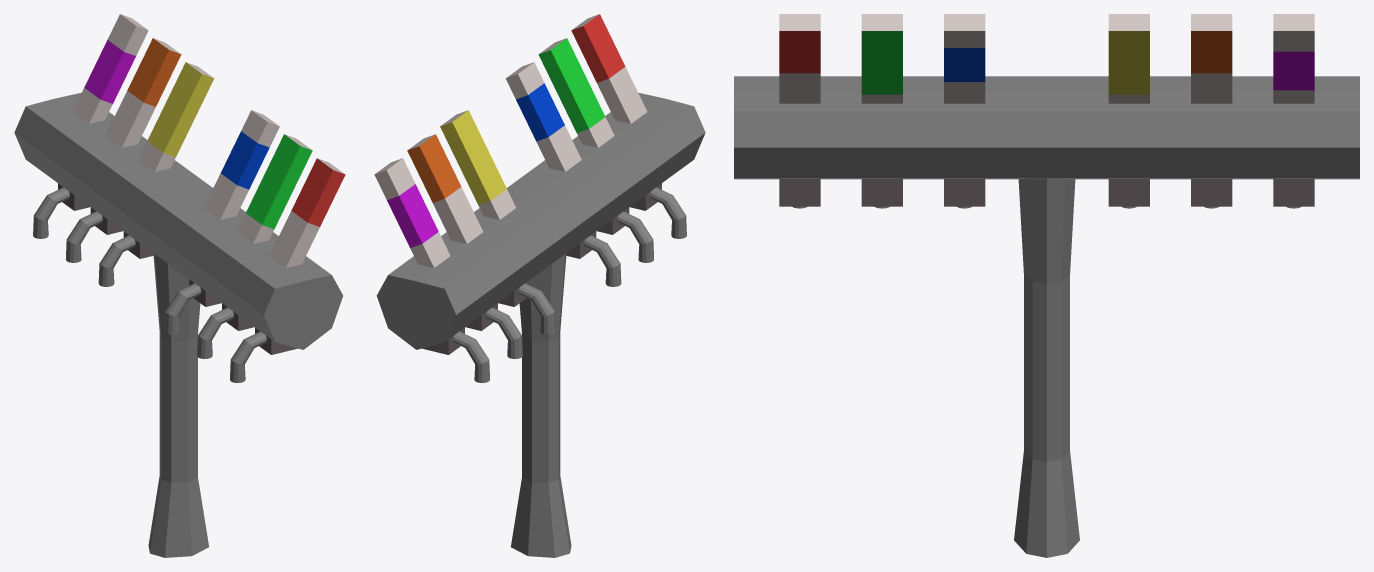
File: Bar Taps.fbx
The picture shows the model from 3 angles, left to right: view 1: azimuth 30°, elevation 25°; view 2: azimuth 150°, elevation 25°; view 3: azimuth 270°, elevation 25°; orthographic projection. The views are drawn at different scales.
Parts seen in each view (by area): view 1: Bar Tap; view 2: Bar Tap; view 3: Bar Tap.
Part boxes in pixels (left/top/right/bottom): Bar Tap: left=14, top=14, right=345, bottom=557; Bar Tap: left=374, top=14, right=705, bottom=557; Bar Tap: left=734, top=14, right=1359, bottom=557.
Bounding box in the file's own units: 375 × 1489 × 1520.
